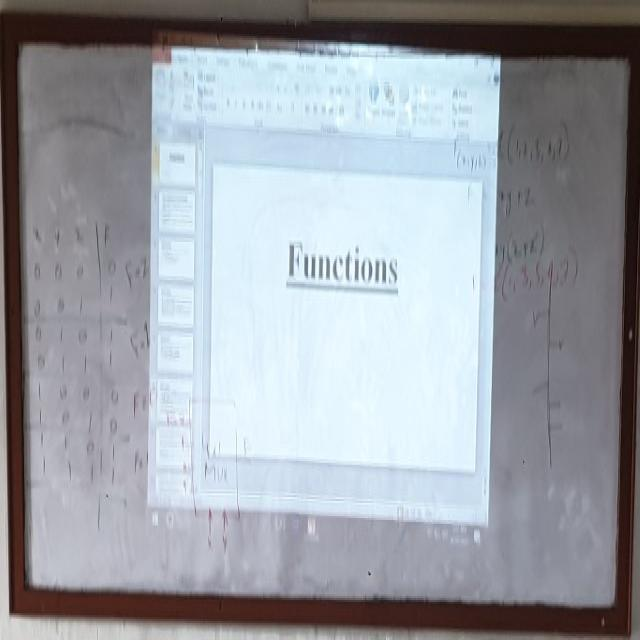Slide: (144, 34, 503, 561)
White-board: (9, 19, 637, 625)
